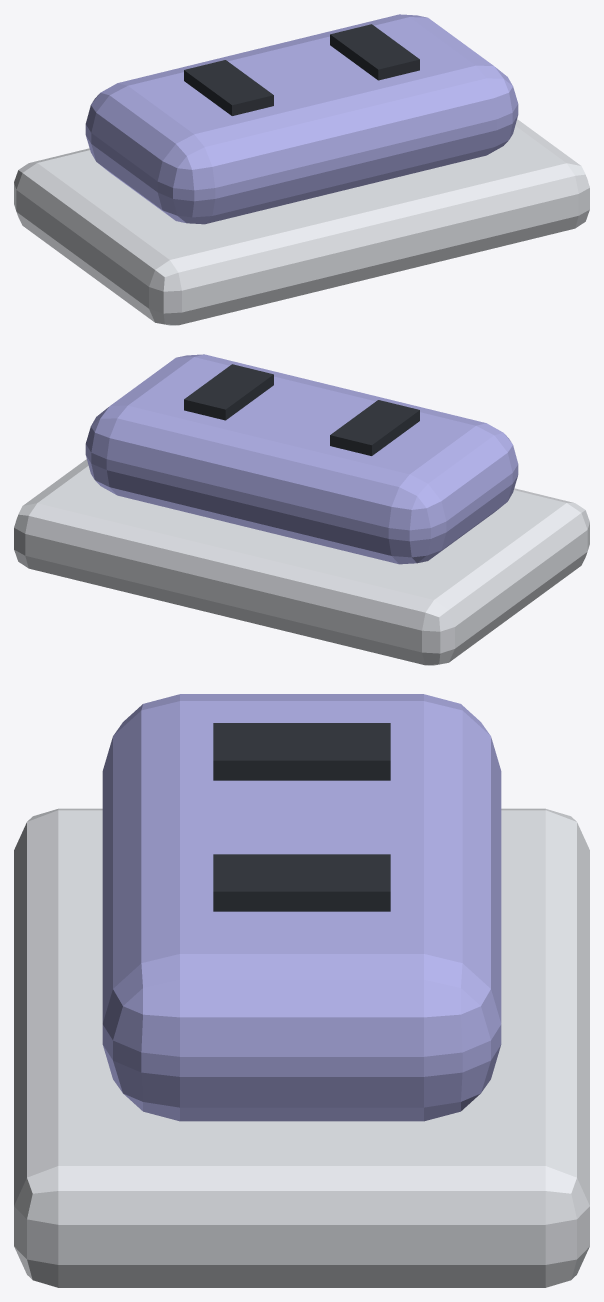
Rendered from endpoint.glb.
3 renders of one model, top to bottom at view 1: azimuth 30°, elevation 25°; view 2: azimuth 150°, elevation 25°; view 3: azimuth 270°, elevation 25°, orthographic. The views are drawn at different scales.
Visible parts, largest first — view 1: ep_base, ep_cap, ep_holes; view 2: ep_base, ep_cap, ep_holes; view 3: ep_base, ep_cap, ep_holes.
Boxes of the visible parts, x1,y1,x2,y2 form: ep_base: (14, 119, 589, 325); ep_cap: (85, 14, 518, 224); ep_holes: (184, 24, 419, 115); ep_base: (14, 459, 589, 665); ep_cap: (85, 354, 518, 564); ep_holes: (184, 364, 419, 455); ep_base: (14, 808, 589, 1287); ep_cap: (102, 694, 501, 1121); ep_holes: (213, 723, 390, 911).
Size of the model in its own units: 0.42 by 0.15 by 0.26.
